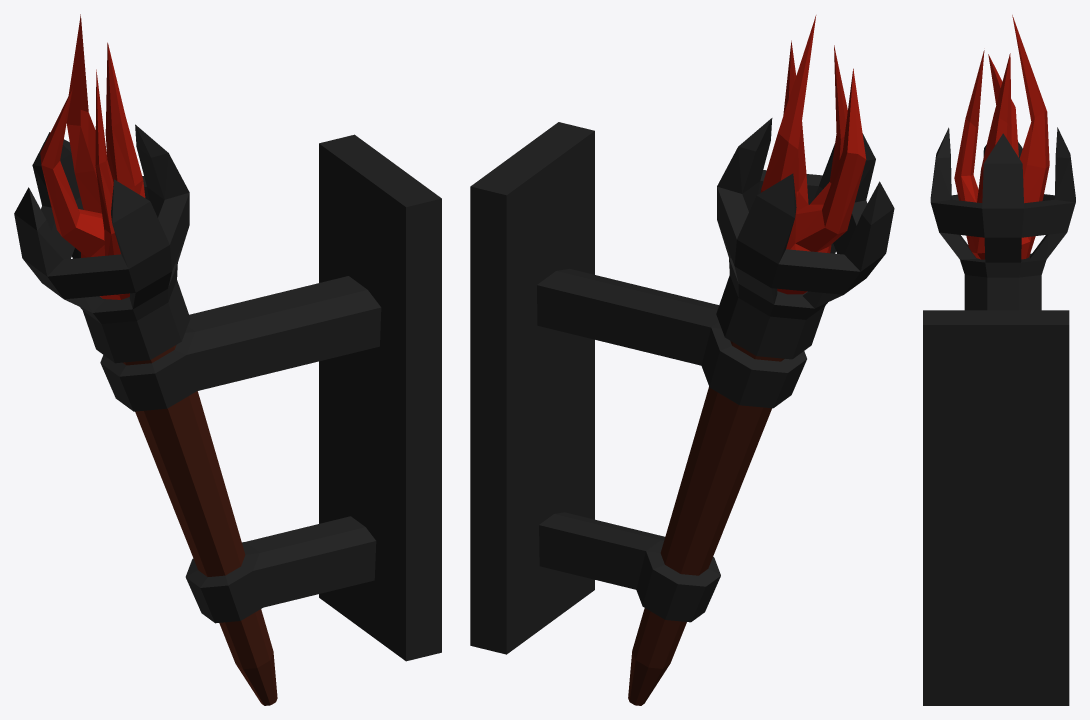
File: Torch_wall.obj
The picture shows the model from 3 angles, left to right: view 1: azimuth 30°, elevation 25°; view 2: azimuth 150°, elevation 25°; view 3: azimuth 270°, elevation 25°; orthographic projection. The views are drawn at different scales.
Parts seen in each view (by area): view 1: Torch_wall; view 2: Torch_wall; view 3: Torch_wall.
Part boxes in pixels (x1,y1,x2,y2): Torch_wall: (14, 14, 441, 705); Torch_wall: (470, 15, 894, 705); Torch_wall: (923, 15, 1075, 705).
Size of the model in its own units: 1.1 by 2.08 by 0.4704.
